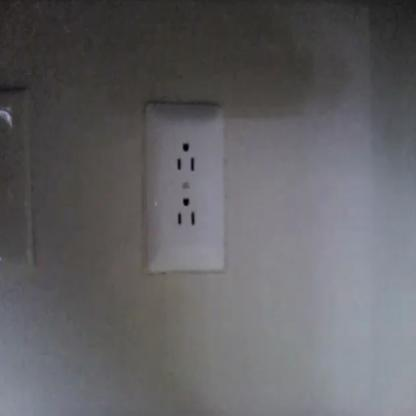OUTLET: (144, 102, 225, 275)
